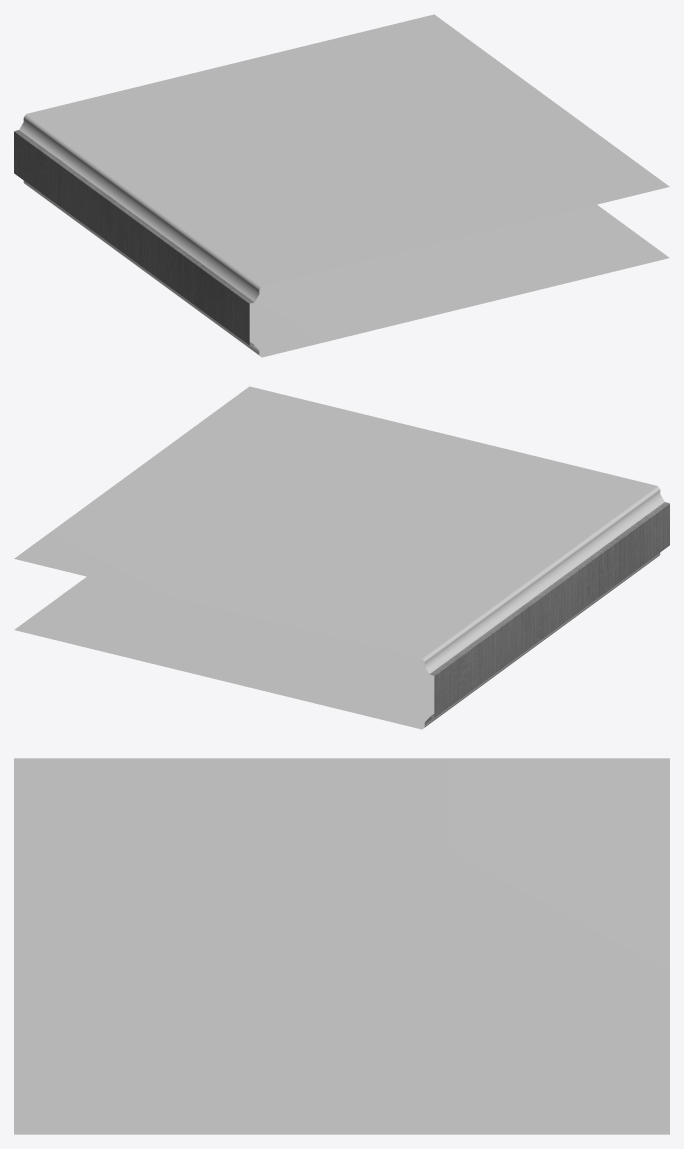
The model's file is SM_Roof_Straight.fbx.
3 views of the same model, one above another, from view 1: azimuth 30°, elevation 25°; view 2: azimuth 150°, elevation 25°; view 3: azimuth 270°, elevation 25° (orthographic). The views are drawn at different scales.
Parts seen in each view (by area): view 1: SM_Roof_Straight_LOD0; view 2: SM_Roof_Straight_LOD0; view 3: SM_Roof_Straight_LOD0.
Boxes of the visible parts, x1,y1,x2,y2 form: SM_Roof_Straight_LOD0: [14, 14, 669, 357]; SM_Roof_Straight_LOD0: [14, 386, 669, 729]; SM_Roof_Straight_LOD0: [14, 758, 669, 1134].
Bounding box in the file's own units: 155 × 150 × 25.
